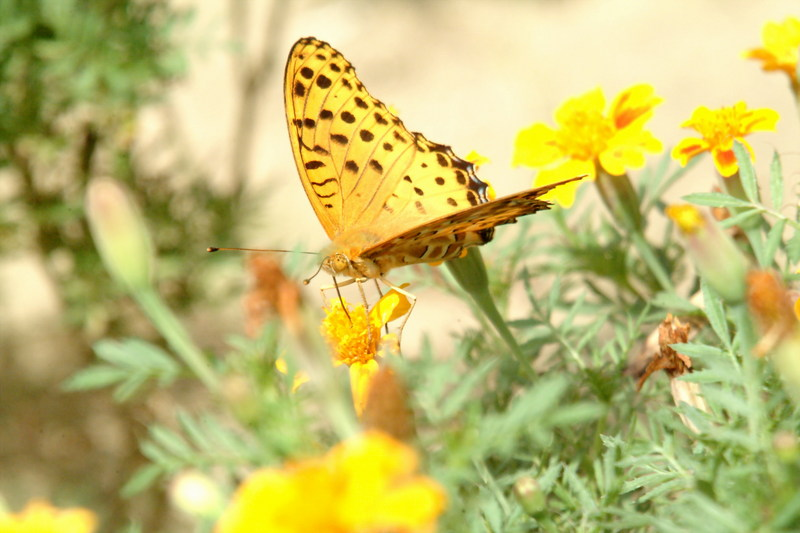Argyreus hyperbius: (203, 32, 601, 352)
butterfly: (205, 34, 603, 354)
